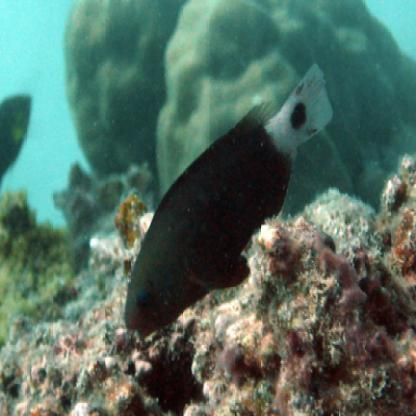Bio: (121, 57, 335, 344)
